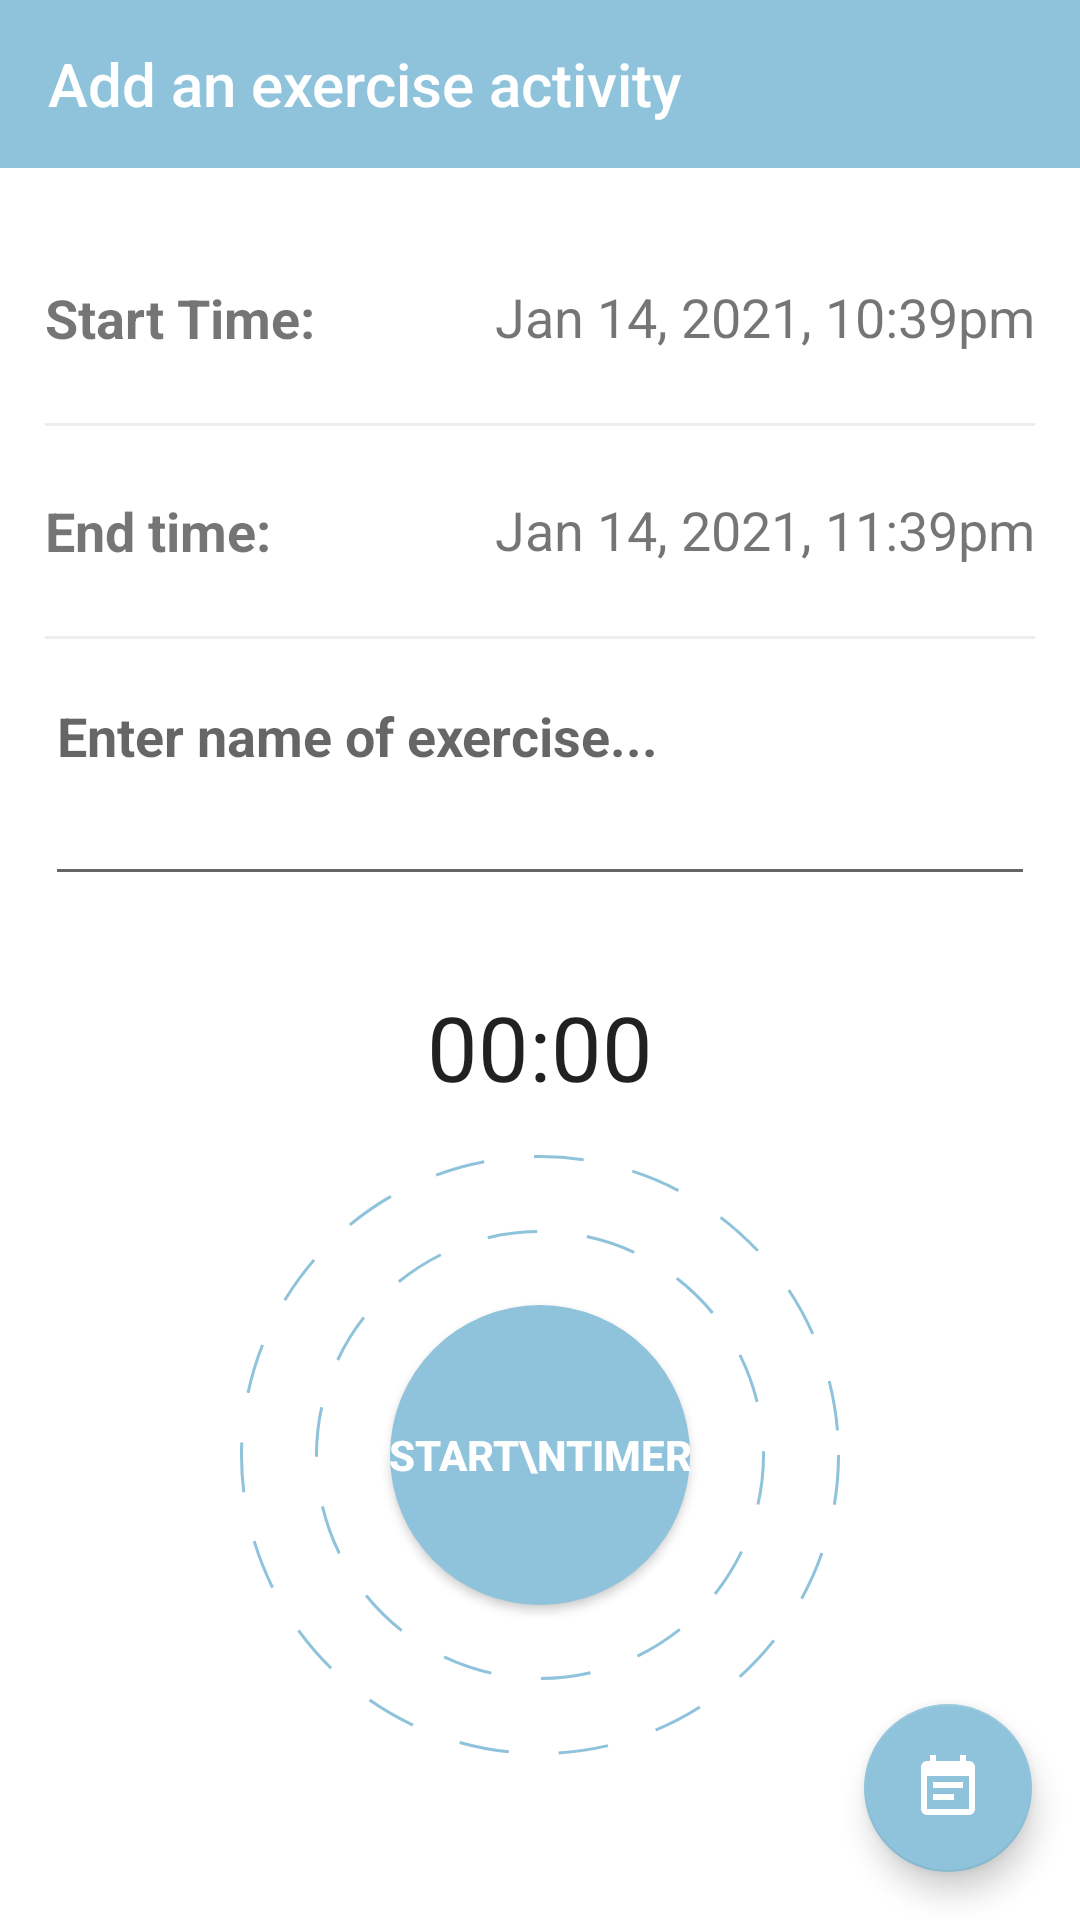

Where to tap for icons on this 1080×1920 app screen, as [x,y]:
Event List: [948,1788]
